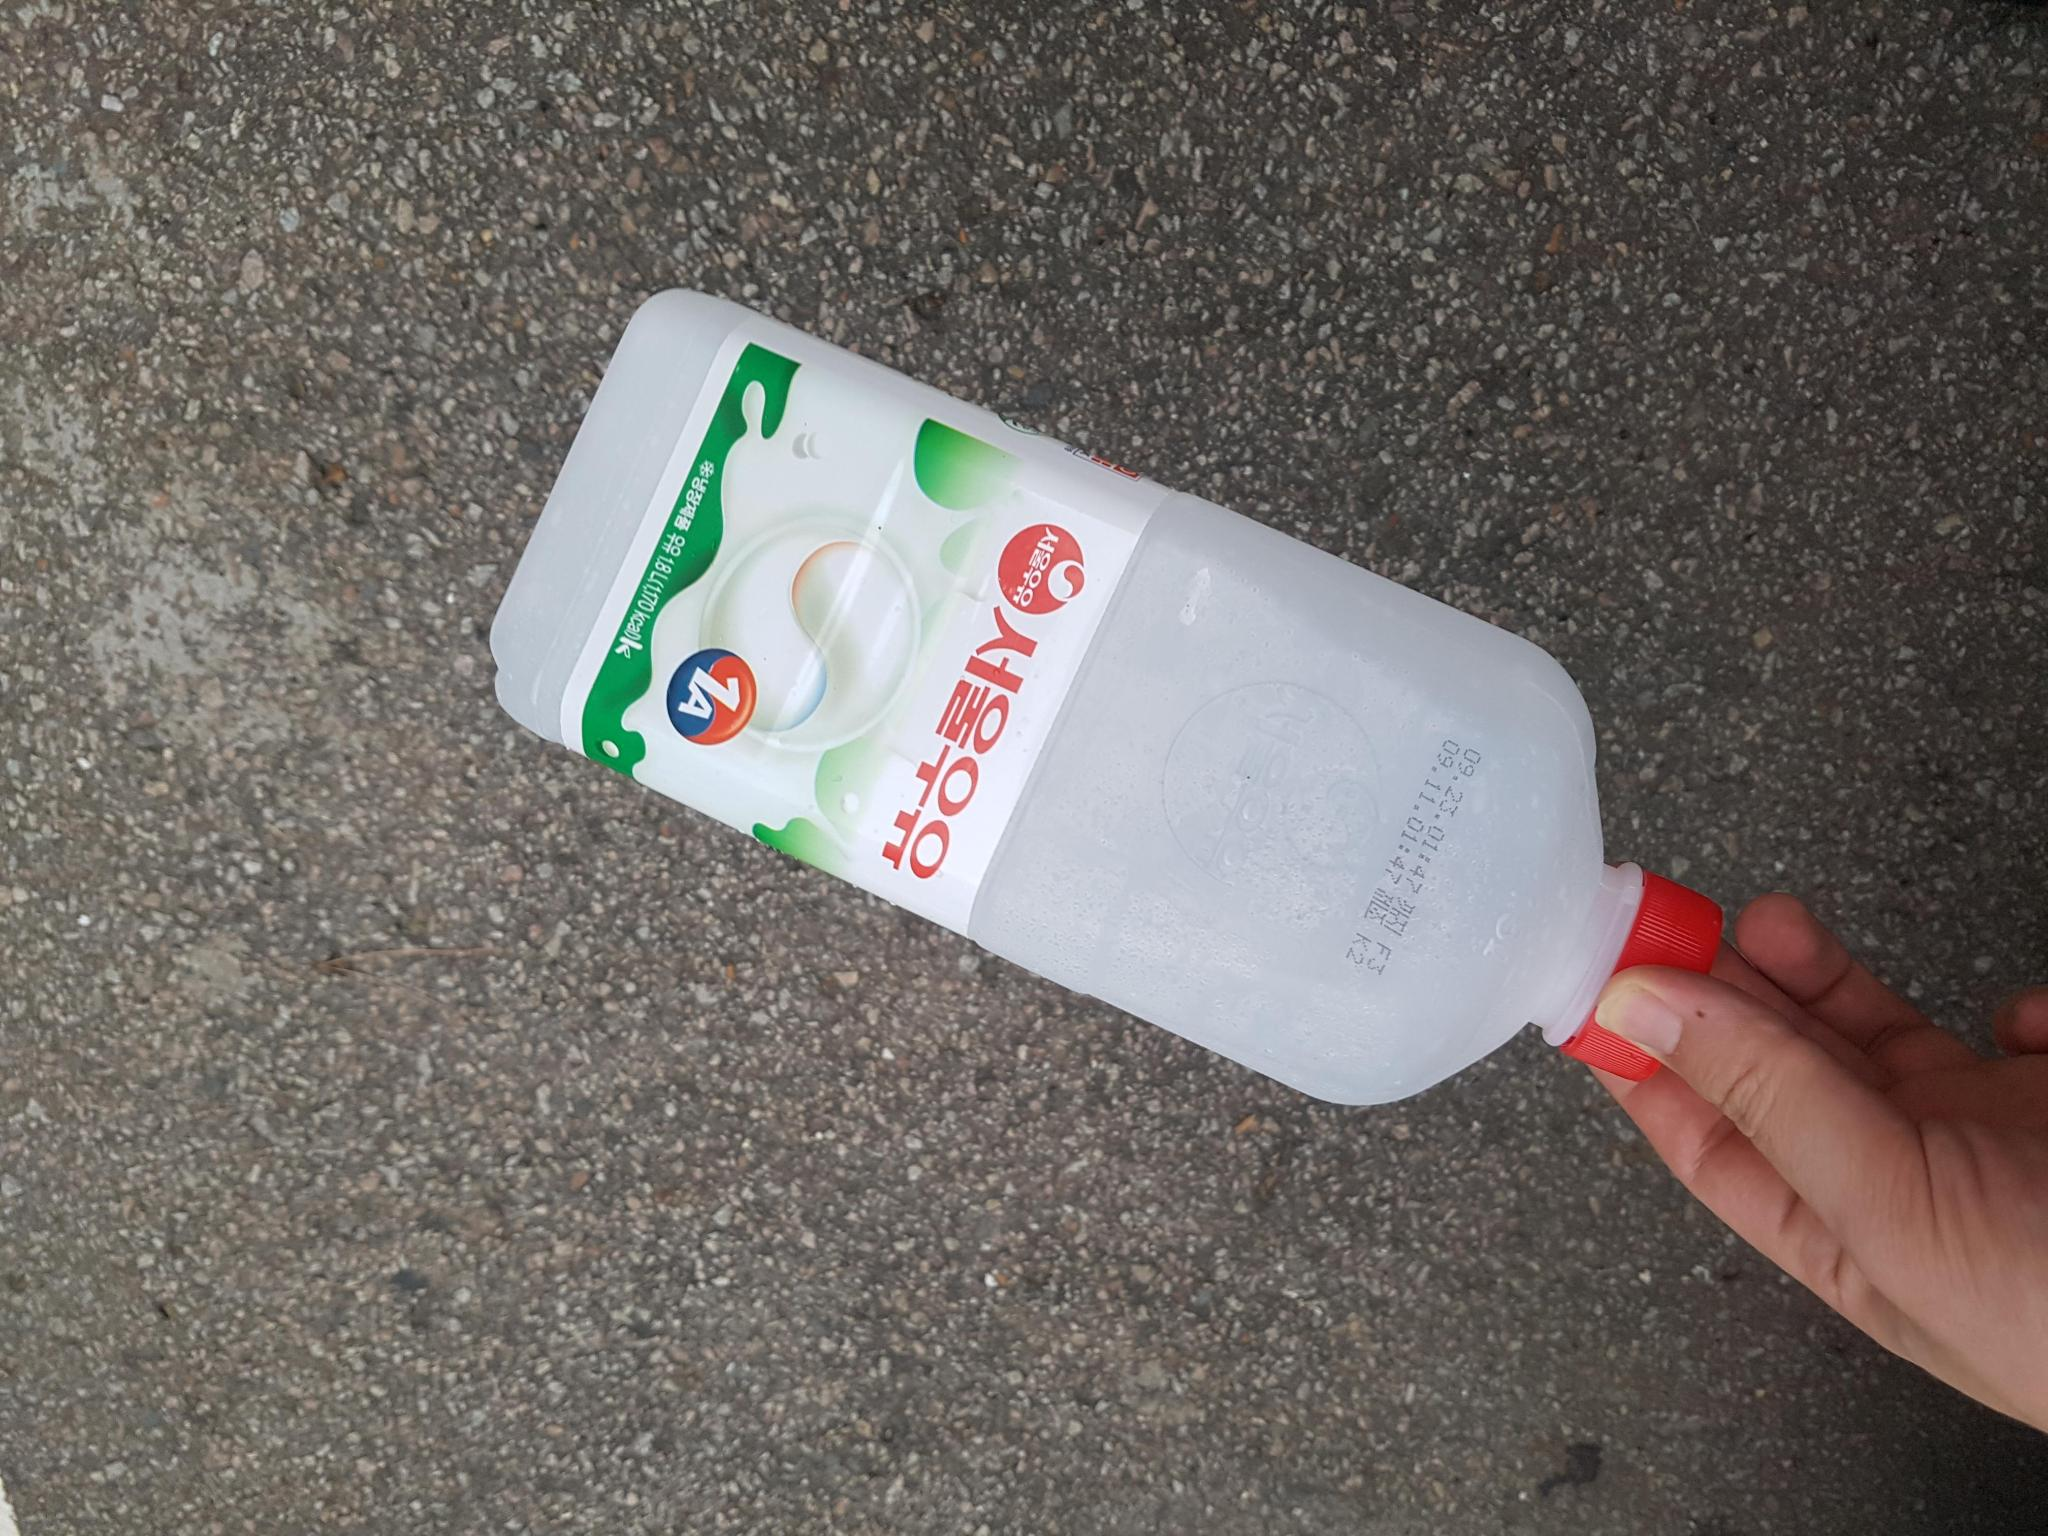bottle: (489, 278, 1734, 1120)
